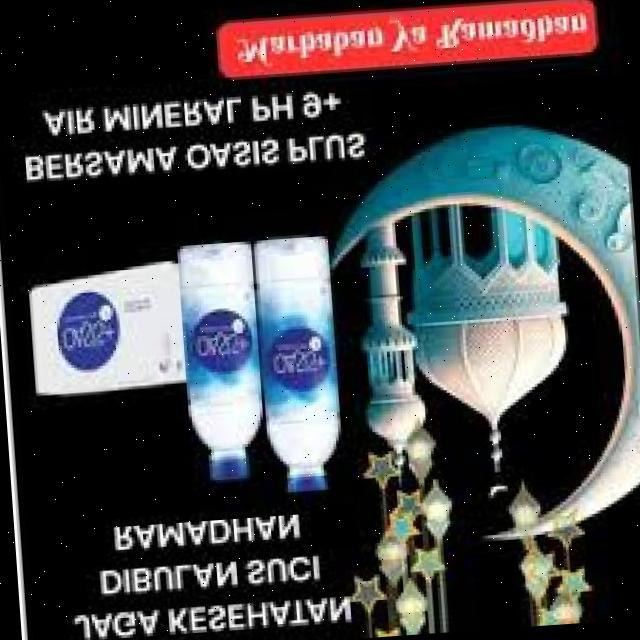bottle: (165, 237, 282, 486)
cap: (207, 446, 251, 484), (286, 468, 336, 496)
label: (182, 292, 270, 378)
